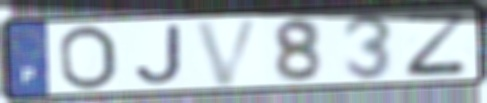3: (340, 9, 396, 86)
8: (272, 16, 324, 84)
J: (132, 22, 185, 86)
O: (56, 23, 121, 93)
V: (191, 16, 265, 89)
Z: (401, 10, 472, 80)
